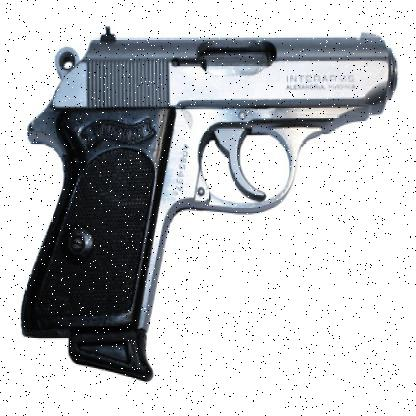pistol: (18, 30, 403, 381)
